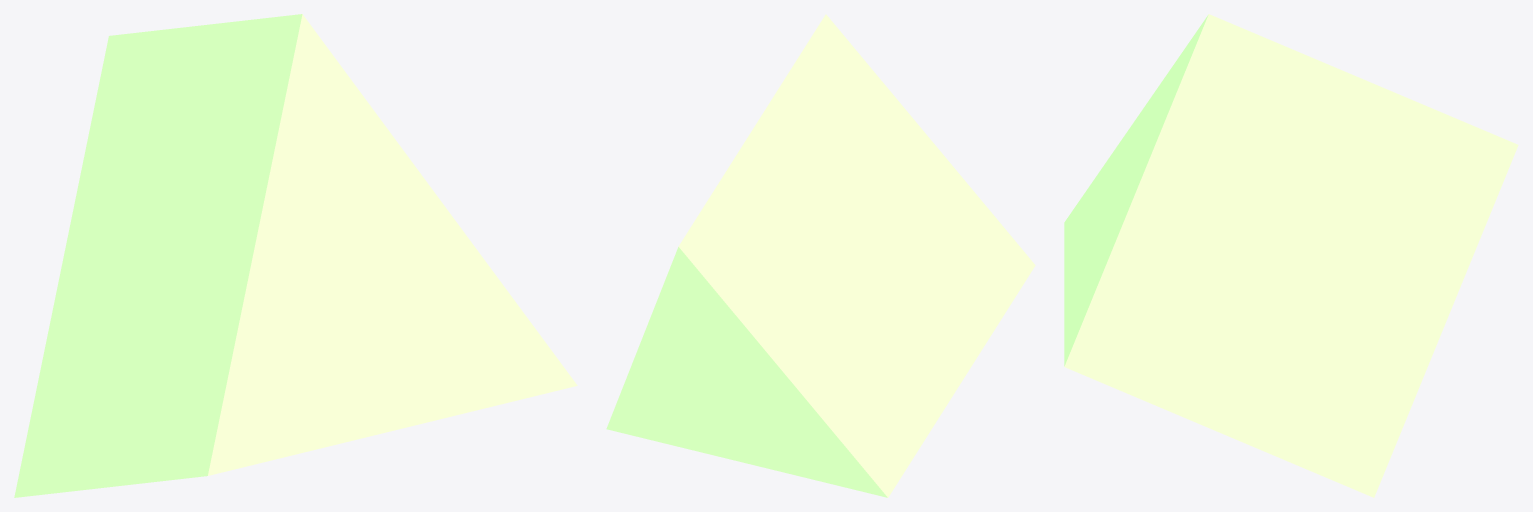
The model's file is item_ammo_pistol.glb.
3 renders of one model, left to right at view 1: azimuth 30°, elevation 25°; view 2: azimuth 150°, elevation 25°; view 3: azimuth 270°, elevation 25°, orthographic. The views are drawn at different scales.
Visible parts, largest first — view 1: MeshInstance3D; view 2: MeshInstance3D; view 3: MeshInstance3D.
Boxes of the visible parts, box(x1,y1,x2,y2) form: MeshInstance3D: box(14, 14, 577, 497); MeshInstance3D: box(606, 14, 1035, 497); MeshInstance3D: box(1064, 14, 1518, 497).
Size of the model in its own units: 0.5 by 0.6645 by 0.6645.
